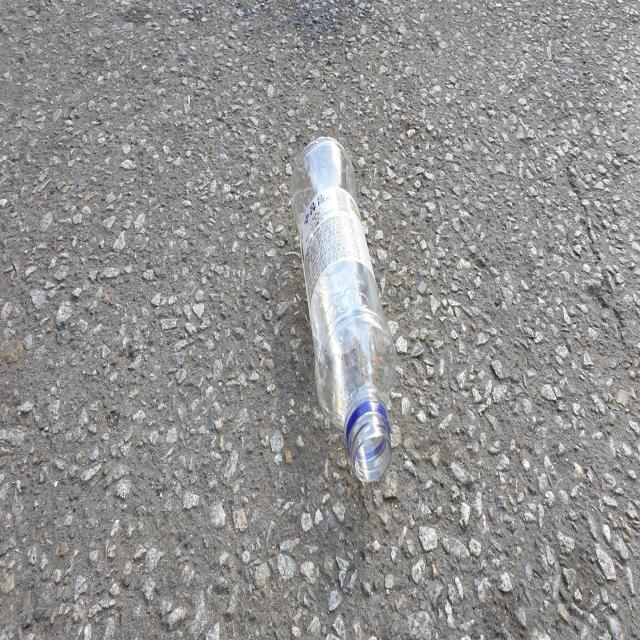plastic: (291, 136, 396, 482)
